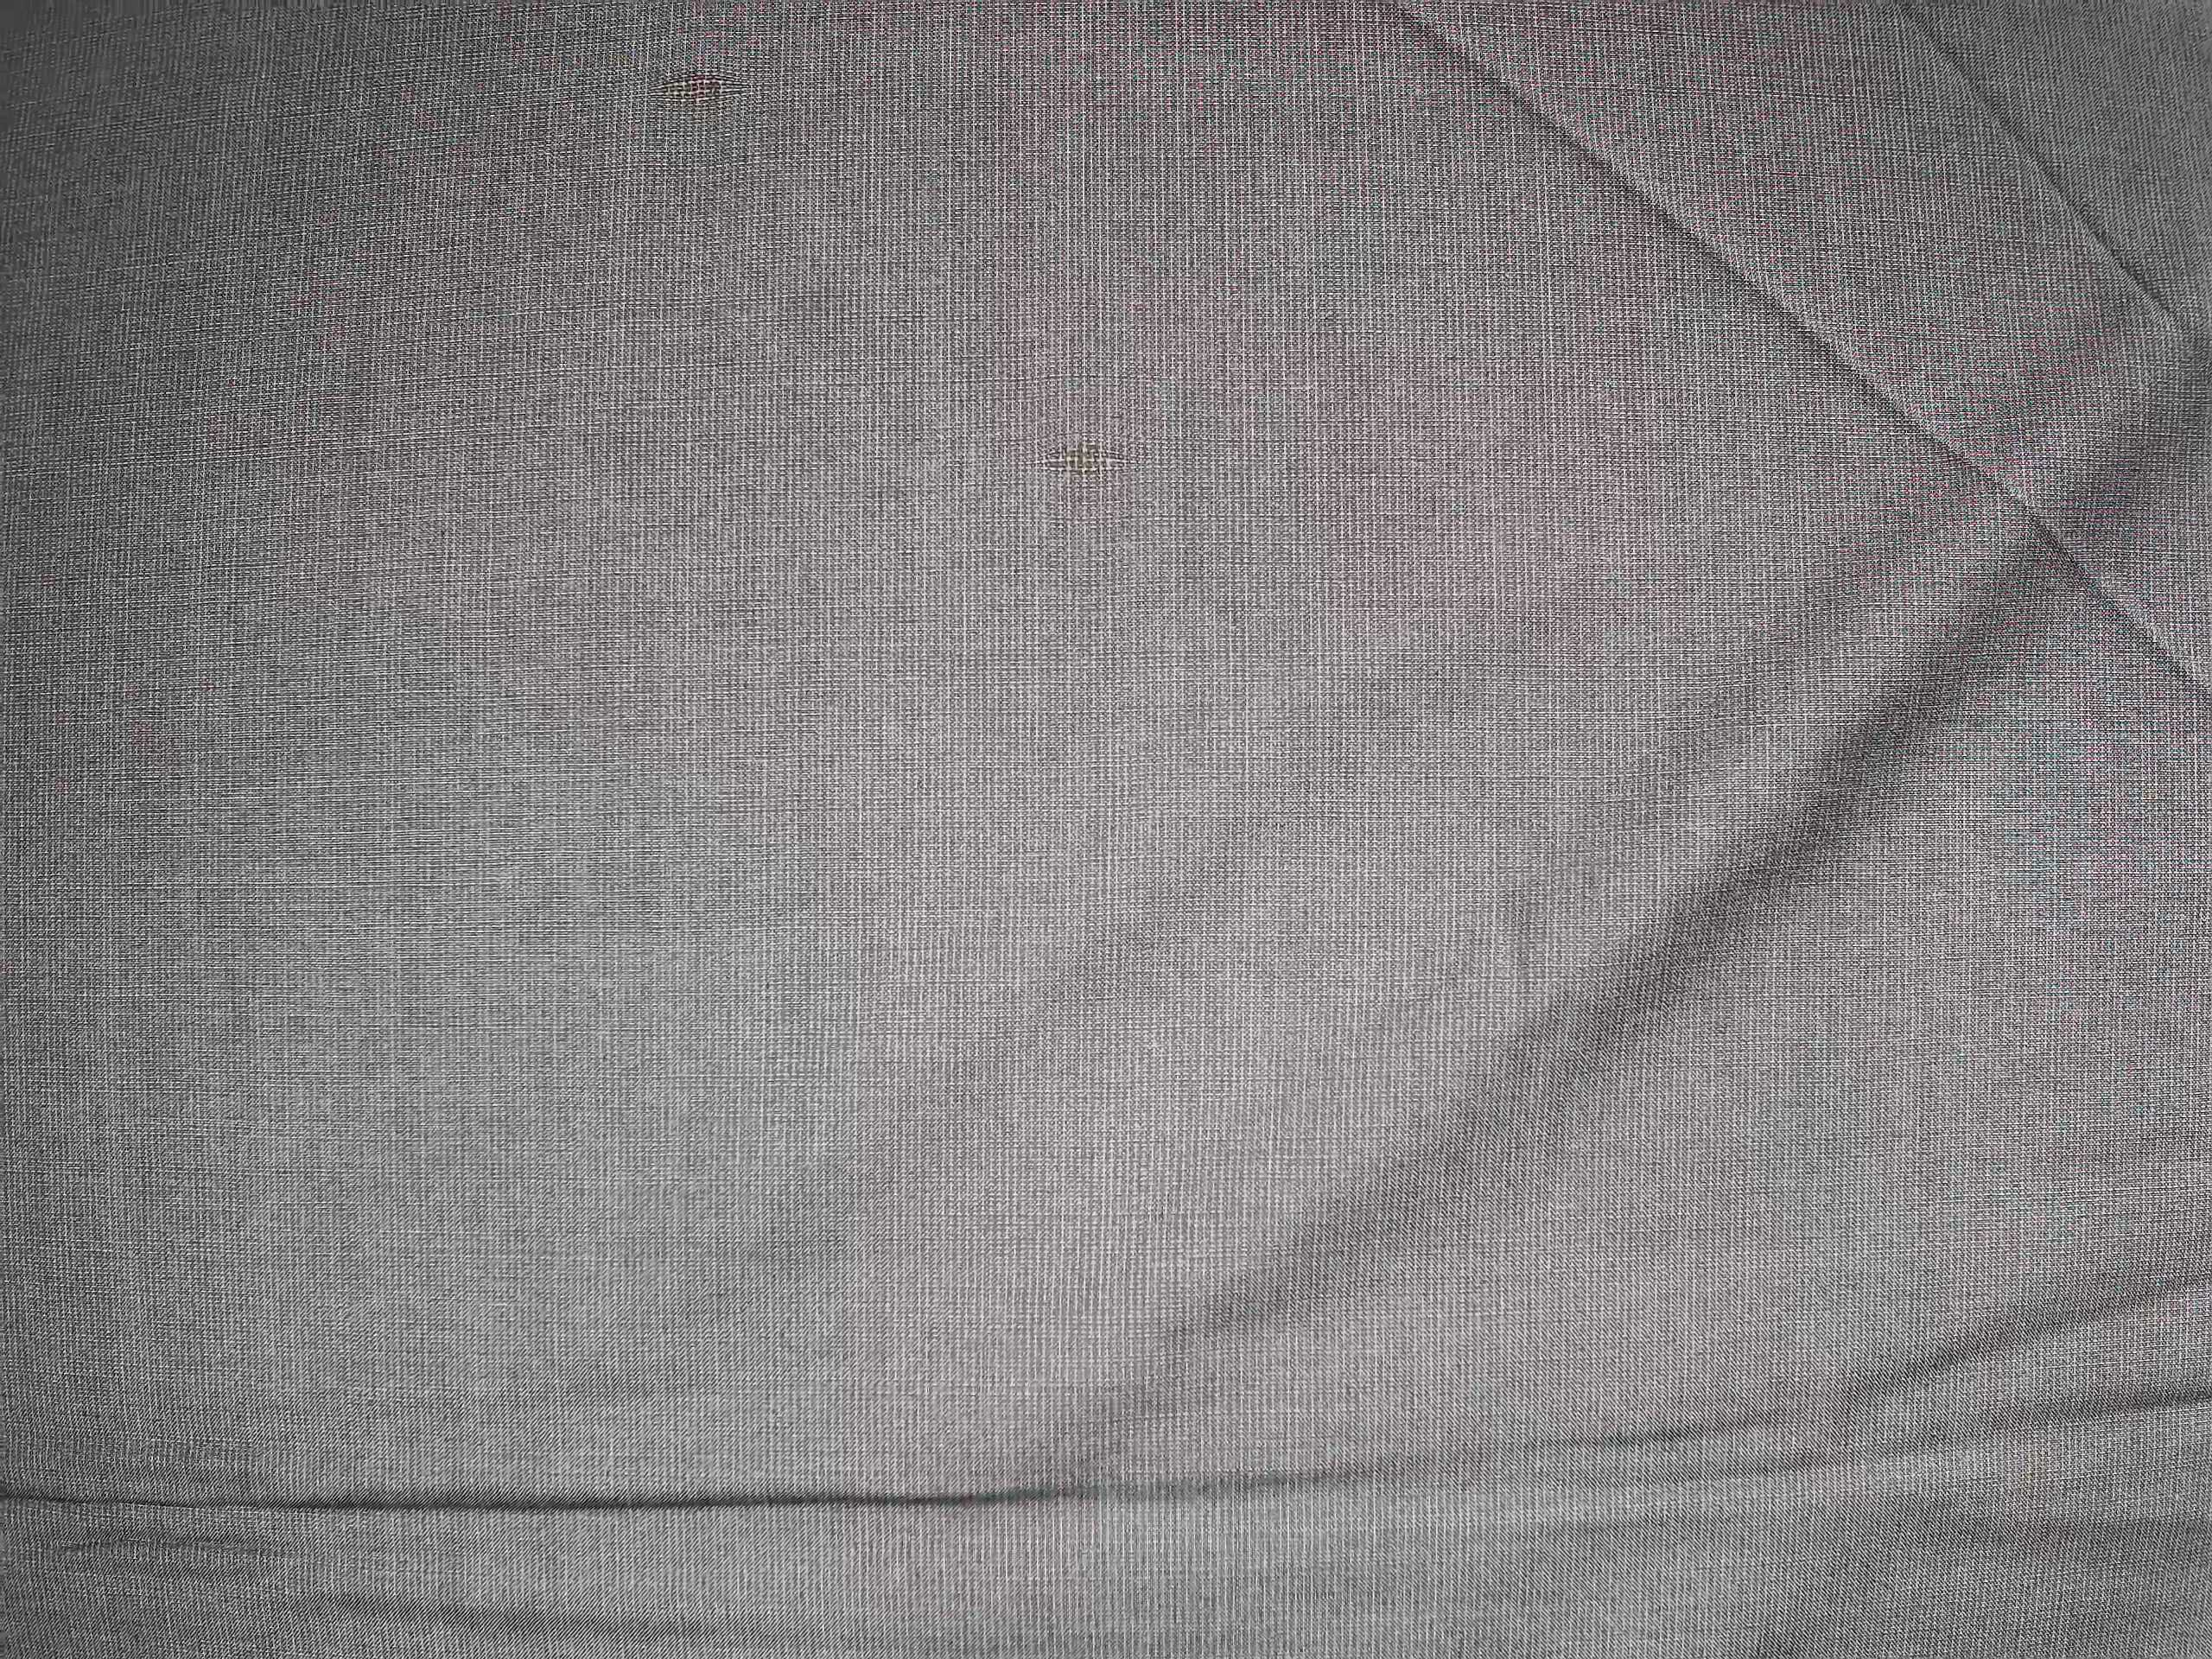thin-spinning: (1026, 425, 1139, 493), (648, 61, 763, 113)
